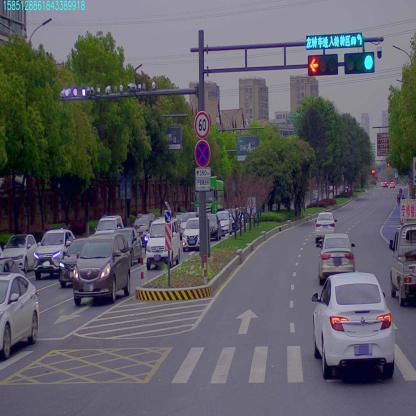traffic-light: (306, 33, 362, 46), (344, 53, 375, 73), (307, 56, 336, 75)
